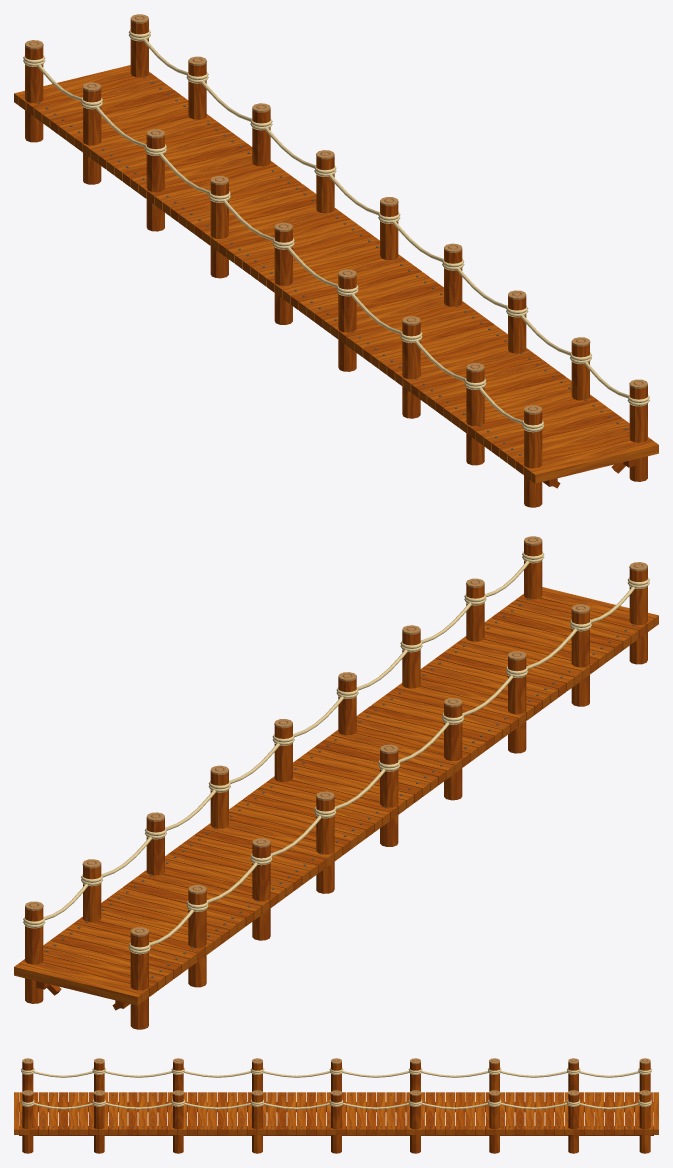
File: wooden-bridge-13.gltf
The picture shows the model from 3 angles, top to bottom: view 1: azimuth 30°, elevation 25°; view 2: azimuth 150°, elevation 25°; view 3: azimuth 270°, elevation 25°; orthographic projection. The views are drawn at different scales.
Visible parts, largest first — view 1: wooden-bridge-13; view 2: wooden-bridge-13; view 3: wooden-bridge-13.
Part boxes in pixels (left/top/right/bottom): wooden-bridge-13: left=14, top=14, right=658, bottom=507; wooden-bridge-13: left=14, top=536, right=658, bottom=1029; wooden-bridge-13: left=14, top=1058, right=658, bottom=1153.
Bounding box in the file's own units: 1.8 × 1.31 × 13.
Materials: 2 (1 with a texture image).
